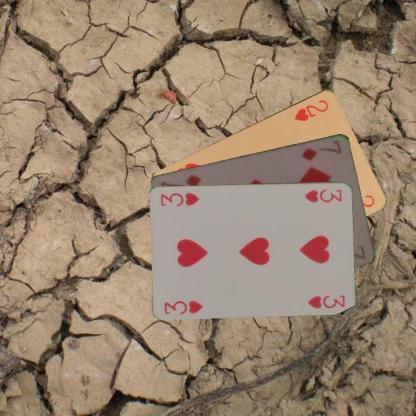2h: (292, 96, 330, 122)
3h: (162, 298, 204, 316), (302, 186, 343, 204)
7d: (299, 138, 343, 162)
